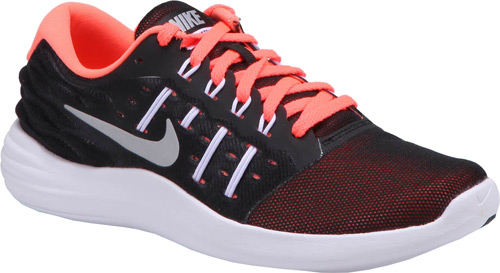nike: (64, 98, 181, 169)
